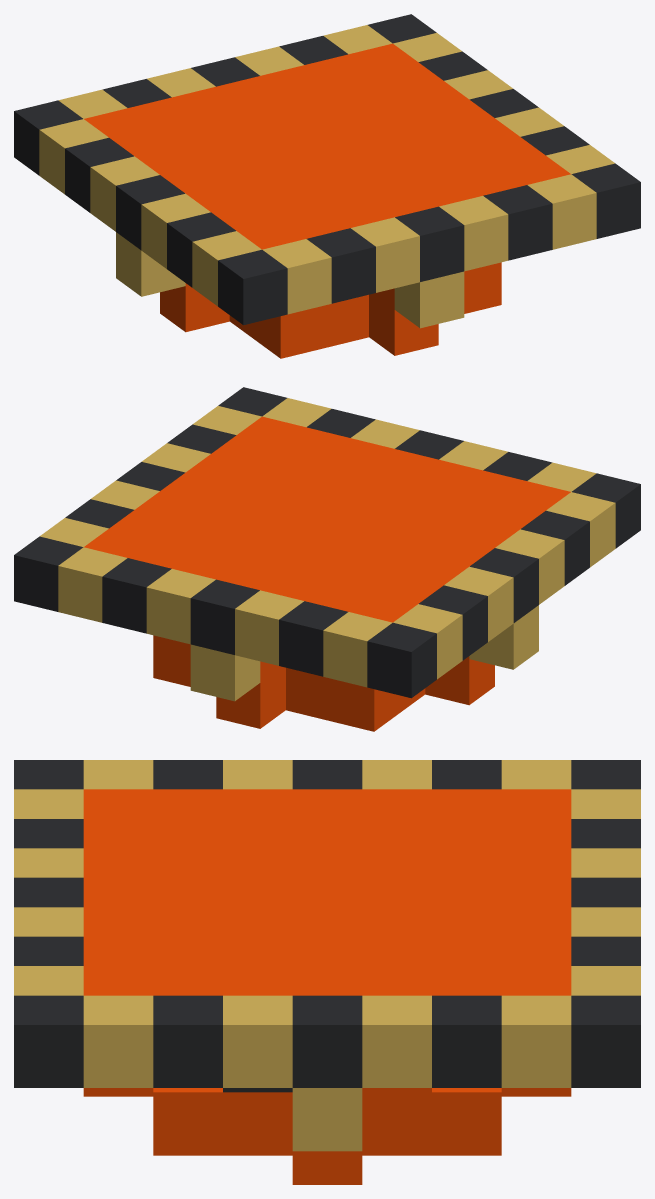
Rendered from Minero-3.obj.
3 renders of one model, top to bottom at view 1: azimuth 30°, elevation 25°; view 2: azimuth 150°, elevation 25°; view 3: azimuth 270°, elevation 25°, orthographic. The views are drawn at different scales.
Size of the model in its own units: 0.9 by 0.3 by 0.9.
1 material, 1 textured.
